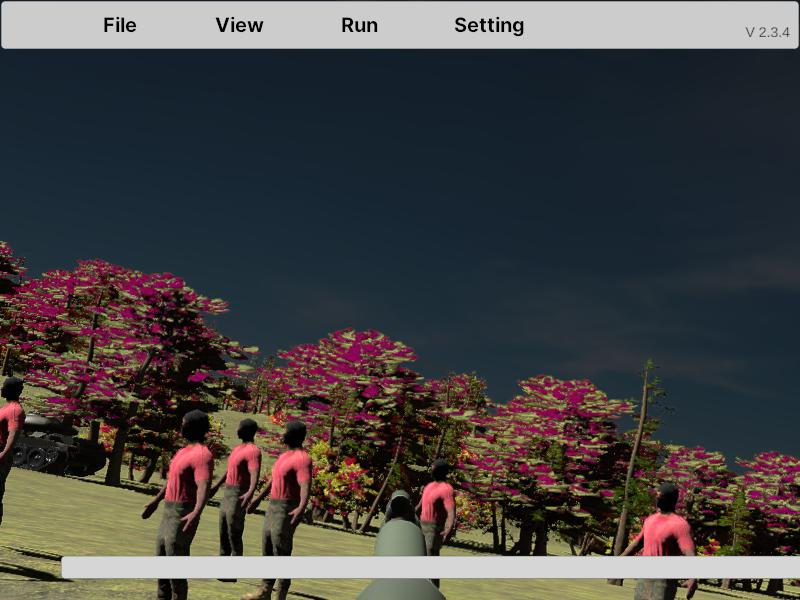Human: (142, 407, 214, 599), (242, 418, 313, 600), (196, 417, 261, 587), (613, 480, 700, 600), (412, 458, 455, 585), (0, 375, 25, 544)
Tank: (1, 405, 107, 478)
